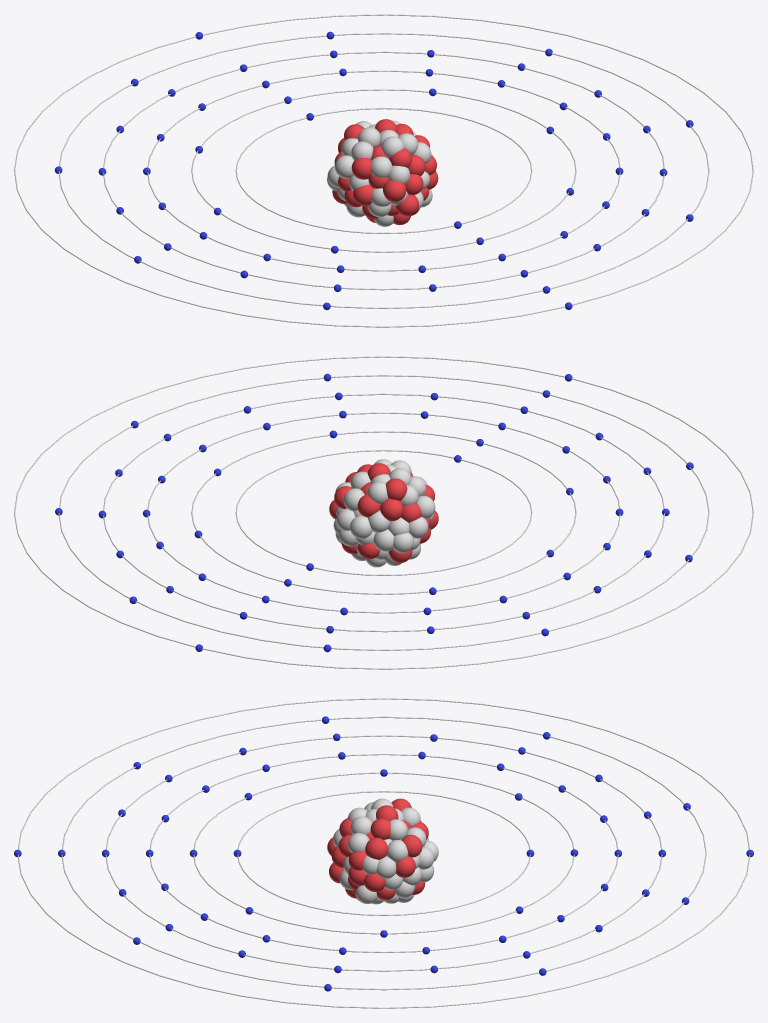
File: Lanthan.glb
The picture shows the model from 3 angles, top to bottom: view 1: azimuth 30°, elevation 25°; view 2: azimuth 150°, elevation 25°; view 3: azimuth 270°, elevation 25°; orthographic projection.
Parts seen in each view (by area): view 1: P-Schale, O-Schale, N-Schale, M-Schale, L-Schale, K-Schale; view 2: P-Schale, O-Schale, N-Schale, M-Schale, L-Schale, K-Schale; view 3: P-Schale, O-Schale, N-Schale, M-Schale, L-Schale, K-Schale.
Part boxes in pixels (x1=…): P-Schale: x1=14, y1=14, x2=753, y2=327; O-Schale: x1=58, y1=33, x2=709, y2=308; N-Schale: x1=103, y1=51, x2=664, y2=290; M-Schale: x1=147, y1=70, x2=620, y2=271; L-Schale: x1=191, y1=89, x2=576, y2=252; K-Schale: x1=235, y1=108, x2=532, y2=233; P-Schale: x1=14, y1=356, x2=753, y2=669; O-Schale: x1=58, y1=375, x2=709, y2=650; N-Schale: x1=103, y1=393, x2=664, y2=632; M-Schale: x1=147, y1=412, x2=620, y2=613; L-Schale: x1=191, y1=431, x2=576, y2=594; K-Schale: x1=235, y1=450, x2=532, y2=575; P-Schale: x1=17, y1=698, x2=750, y2=1008; O-Schale: x1=61, y1=716, x2=706, y2=990; N-Schale: x1=105, y1=735, x2=662, y2=971; M-Schale: x1=149, y1=754, x2=618, y2=952; L-Schale: x1=193, y1=772, x2=574, y2=934; K-Schale: x1=237, y1=791, x2=530, y2=915.
Bounding box in the file's own units: 25.04 × 3.61 × 25.26.
